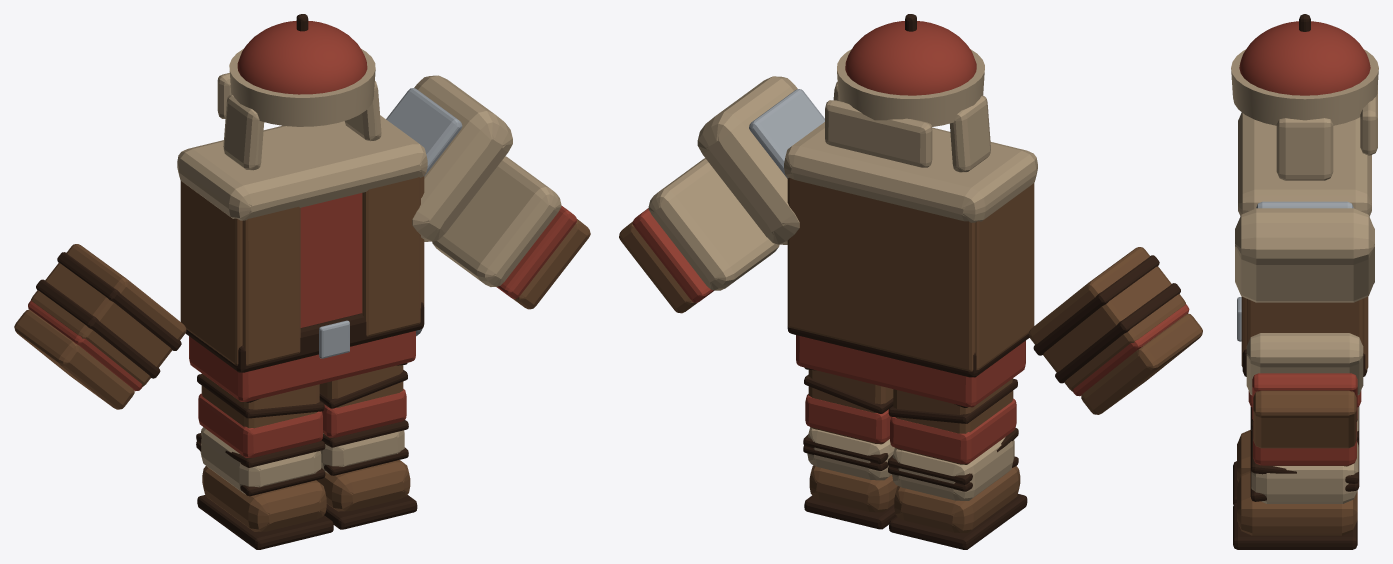
The model's file is WoodcutterArmorSet.glb.
3 views of the same model, side by side, from view 1: azimuth 30°, elevation 25°; view 2: azimuth 150°, elevation 25°; view 3: azimuth 270°, elevation 25° (orthographic).
Visible parts, largest first — view 1: WoodcutterChestplate, Left (×3), Right (×3), WoodcutterHelmet; view 2: WoodcutterChestplate, Left (×3), Right (×3), WoodcutterHelmet; view 3: Left (×3), WoodcutterHelmet, WoodcutterChestplate, Right.
Part boxes in pixels (x1,y1,x2,y2): WoodcutterChestplate: [177, 115, 427, 401]; Left (×3): [316, 75, 590, 529]; Right (×3): [14, 244, 333, 549]; WoodcutterHelmet: [217, 14, 381, 170]; WoodcutterChestplate: [784, 122, 1037, 407]; Left (×3): [619, 76, 897, 529]; Right (×3): [888, 247, 1202, 549]; WoodcutterHelmet: [825, 14, 990, 172]; Left (×3): [1233, 201, 1374, 549]; WoodcutterHelmet: [1231, 14, 1378, 180]; WoodcutterChestplate: [1237, 112, 1371, 406]; Right: [1233, 407, 1359, 504].
Size of the model in its own units: 6.36 by 5.63 by 1.52.
